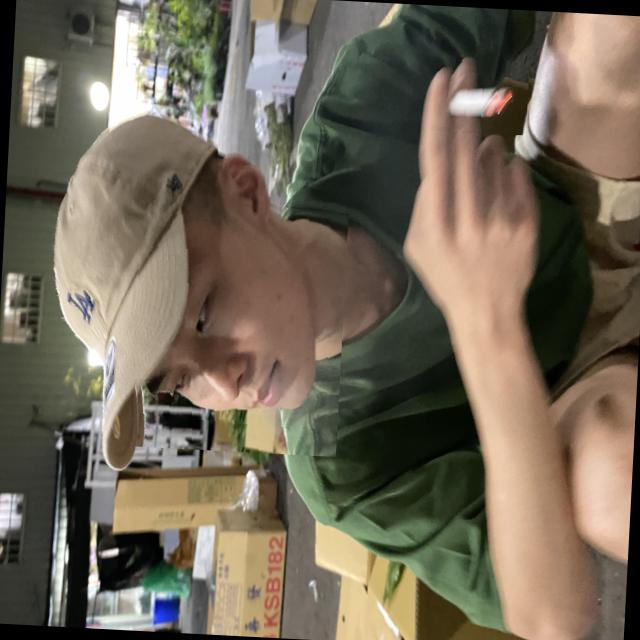cigarette: (427, 58, 530, 136)
